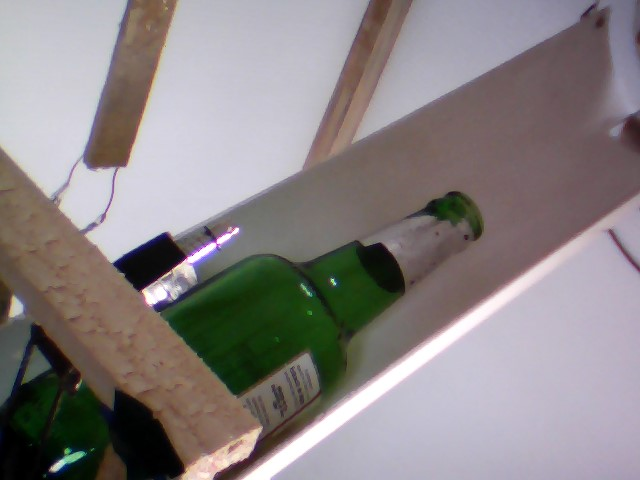vidrio: (178, 183, 499, 438)
